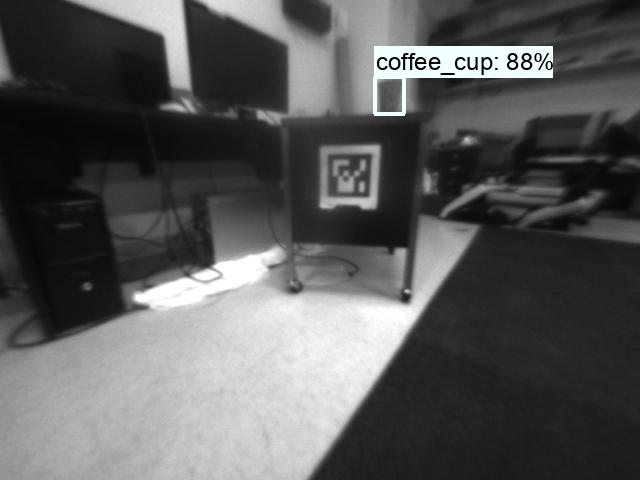coffee_cup: (376, 78, 404, 112)
